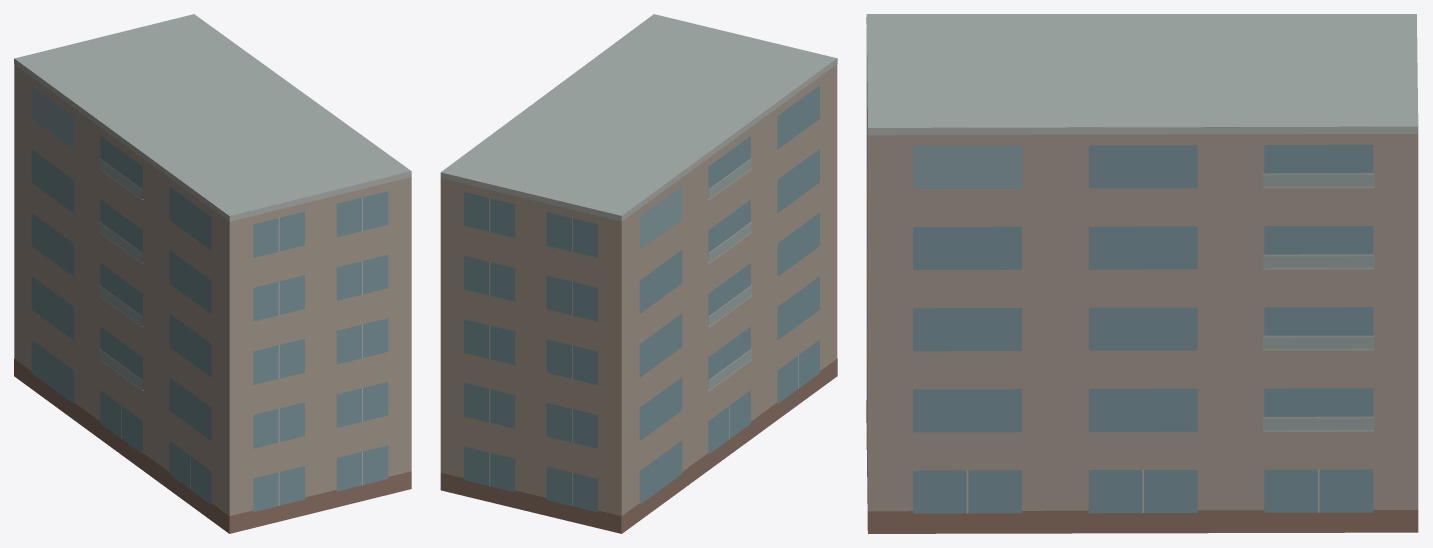
The model's file is survey-upis-32579442.glb.
The picture shows the model from 3 angles, left to right: view 1: azimuth 30°, elevation 25°; view 2: azimuth 150°, elevation 25°; view 3: azimuth 270°, elevation 25°; orthographic projection. The views are drawn at different scales.
Visible parts, largest first — view 1: survey-upis-32579442.tmp; view 2: survey-upis-32579442.tmp; view 3: survey-upis-32579442.tmp.
Boxes of the visible parts, box(x1,y1,x2,y2) form: survey-upis-32579442.tmp: box(14, 14, 411, 533); survey-upis-32579442.tmp: box(440, 14, 837, 533); survey-upis-32579442.tmp: box(866, 14, 1418, 533).
Bounding box in the file's own units: 8.23 × 13.6 × 16.76.
